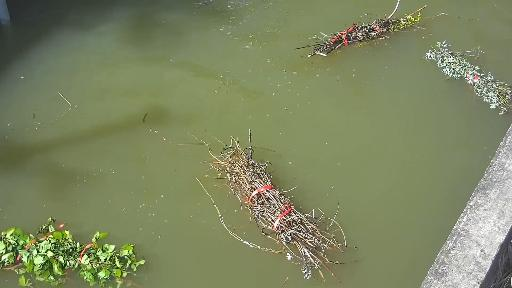twig: (135, 108, 359, 272), (0, 215, 187, 288), (302, 0, 448, 67), (429, 48, 504, 115)
